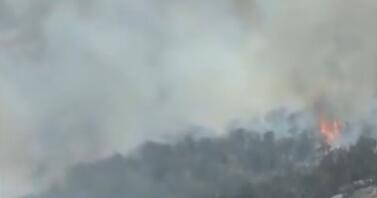fire: (312, 120, 345, 140)
smoke: (0, 1, 372, 196)
